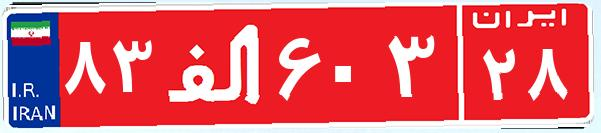0: (330, 28, 385, 110)
2: (475, 38, 525, 113)
3: (385, 28, 445, 110), (110, 28, 158, 105)
6: (273, 28, 330, 110)
8: (57, 26, 110, 107), (525, 38, 570, 115)
الف: (158, 15, 273, 115)
